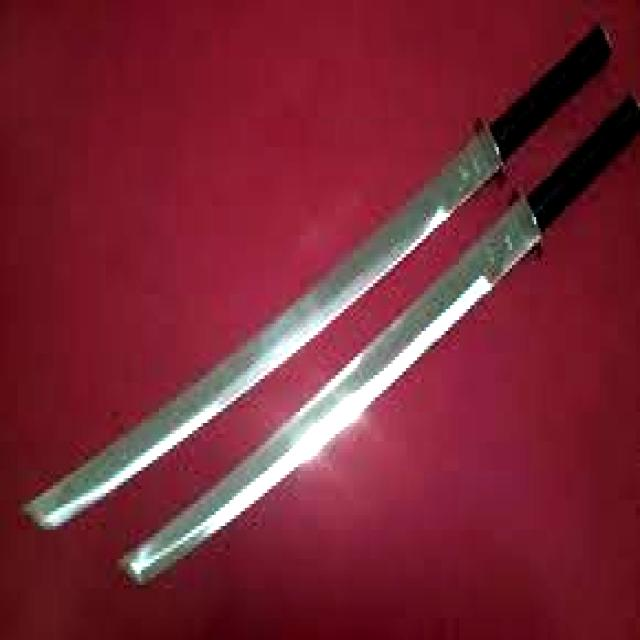long sword: (21, 20, 619, 526), (118, 92, 640, 593)
